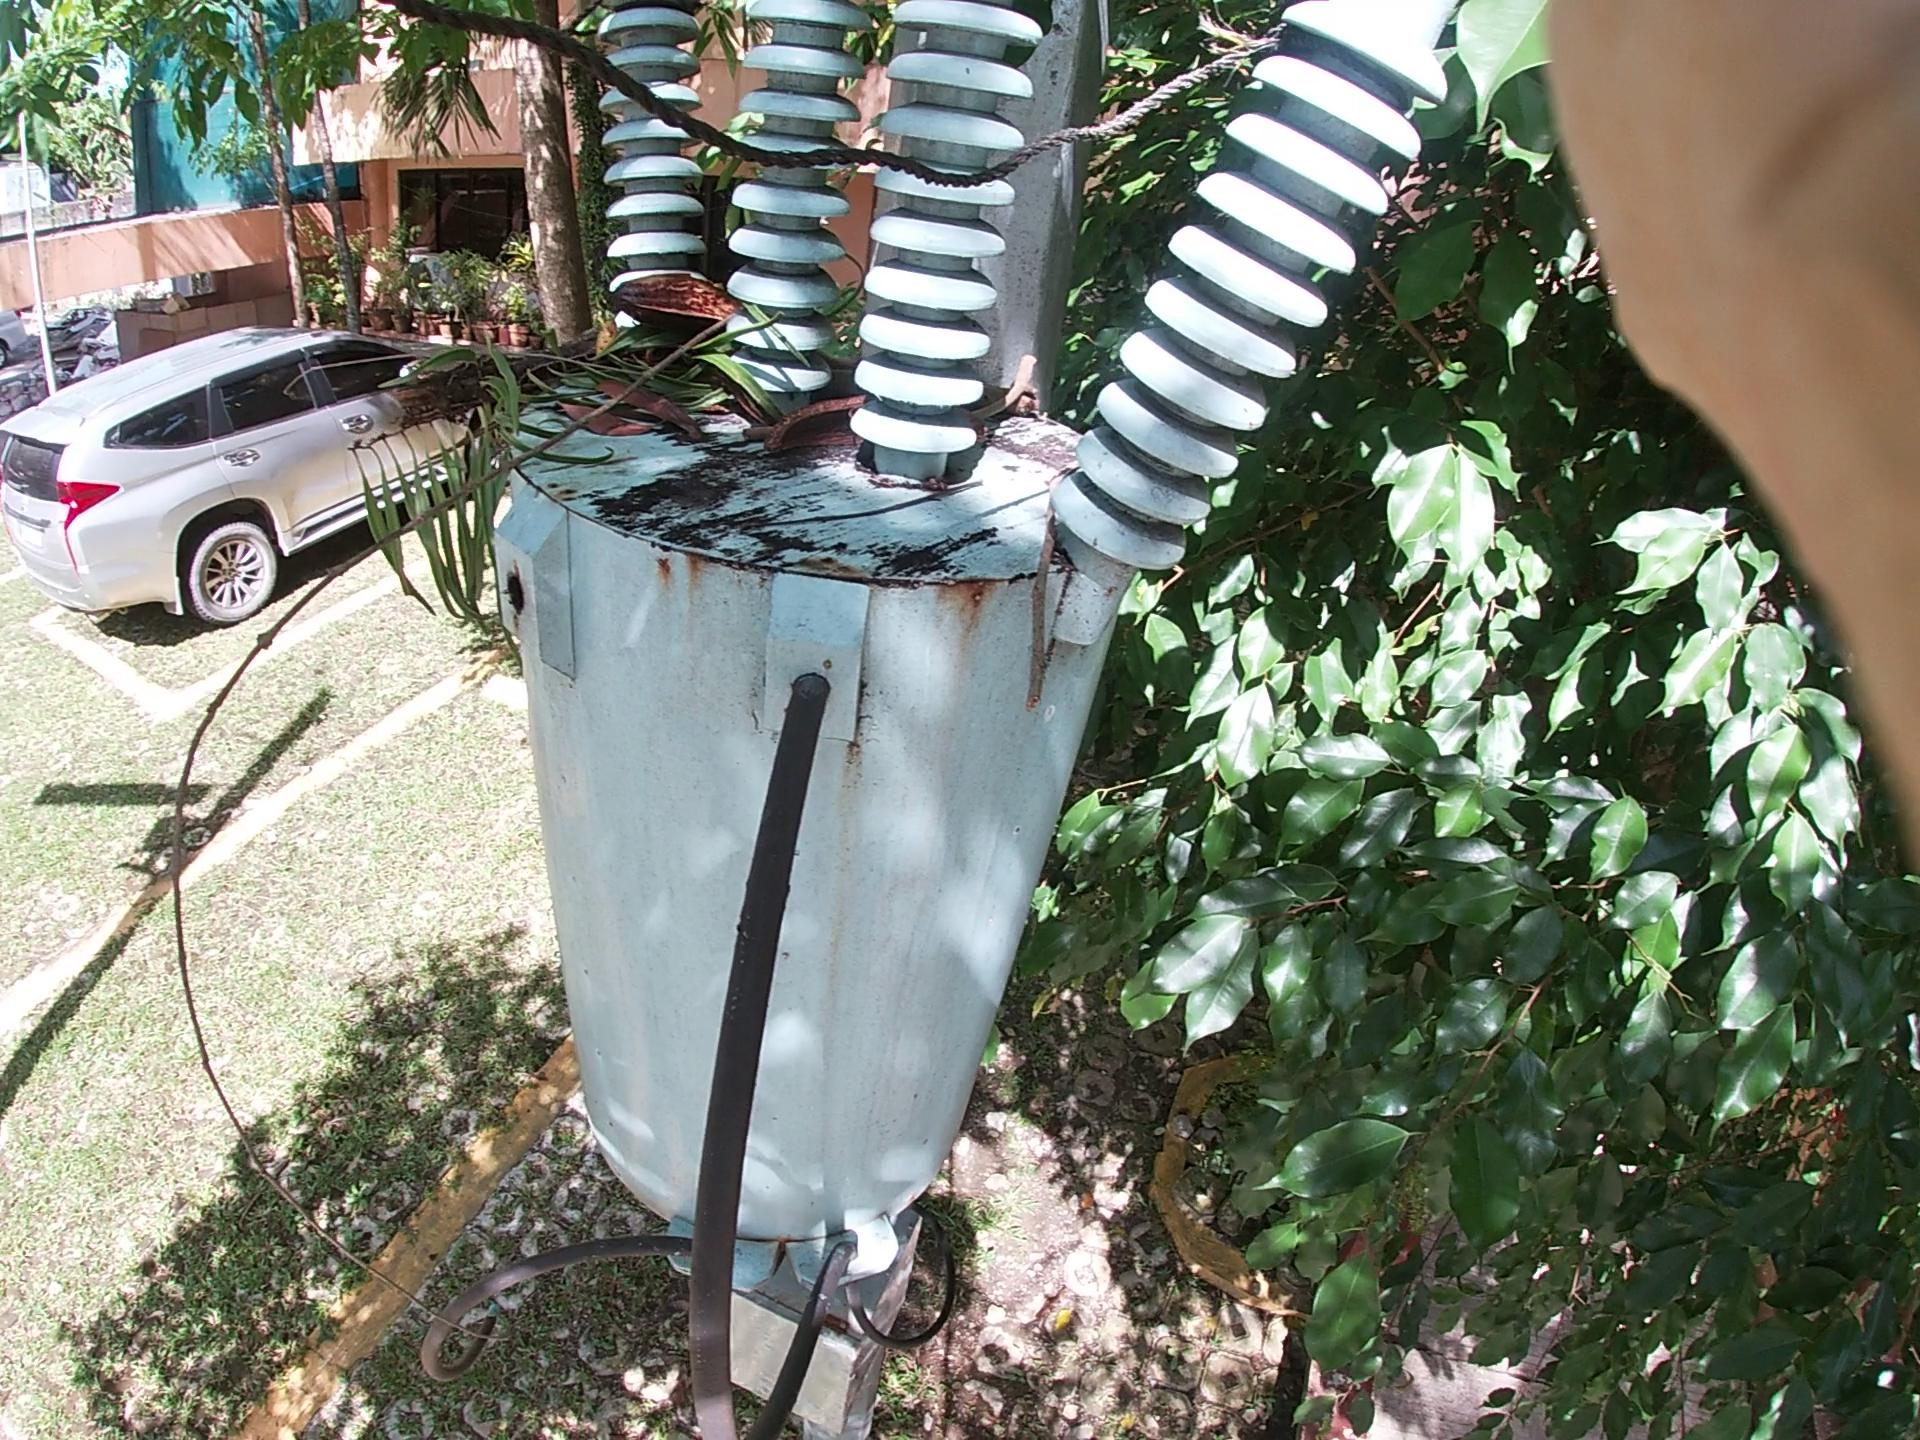branch with leaves: (447, 257, 800, 445)
leaf: (561, 352, 697, 466)
mahogany fruit: (609, 247, 807, 437), (804, 324, 890, 495)
tree branch: (200, 251, 777, 961), (717, 375, 1048, 510), (791, 421, 1020, 546), (1033, 475, 1051, 746)
